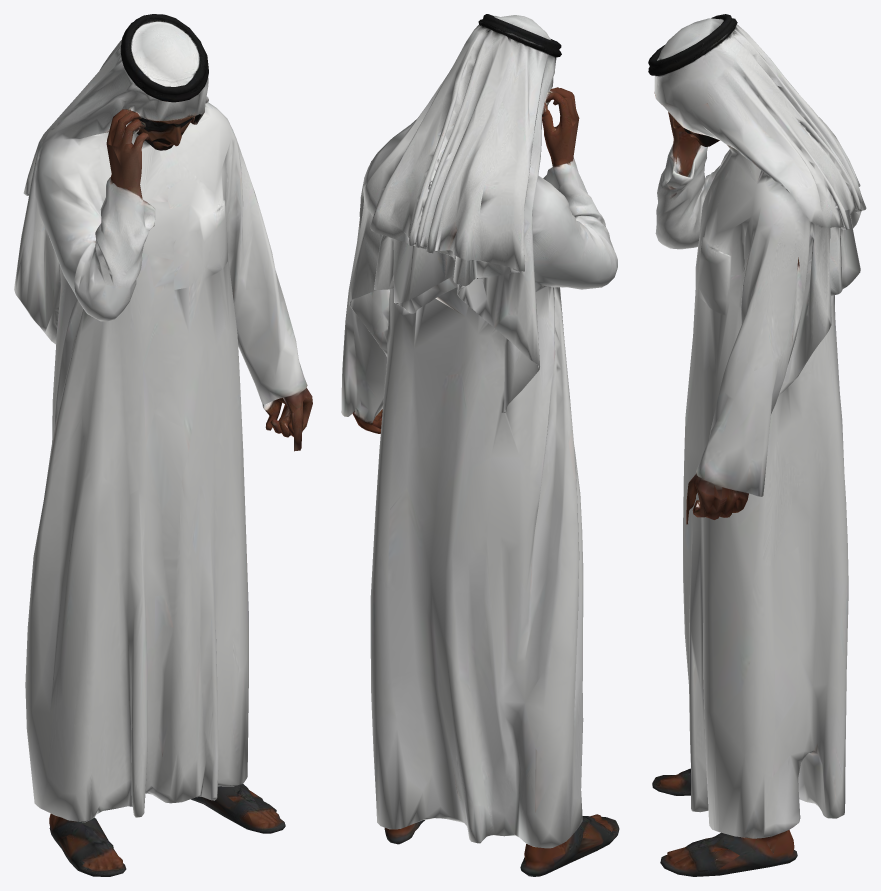
File: gcc-2-near.glb
The picture shows the model from 3 angles, left to right: view 1: azimuth 30°, elevation 25°; view 2: azimuth 150°, elevation 25°; view 3: azimuth 270°, elevation 25°; orthographic projection.
Visible parts, largest first — view 1: Mesh_0; view 2: Mesh_0; view 3: Mesh_0.
Boxes of the visible parts, bbox=[...] form: Mesh_0: bbox=[14, 14, 312, 876]; Mesh_0: bbox=[341, 14, 619, 876]; Mesh_0: bbox=[648, 14, 866, 876].
Bounding box in the file's own units: 0.6055 × 1.9 × 0.4648.
Materials: 1 (1 with a texture image).
